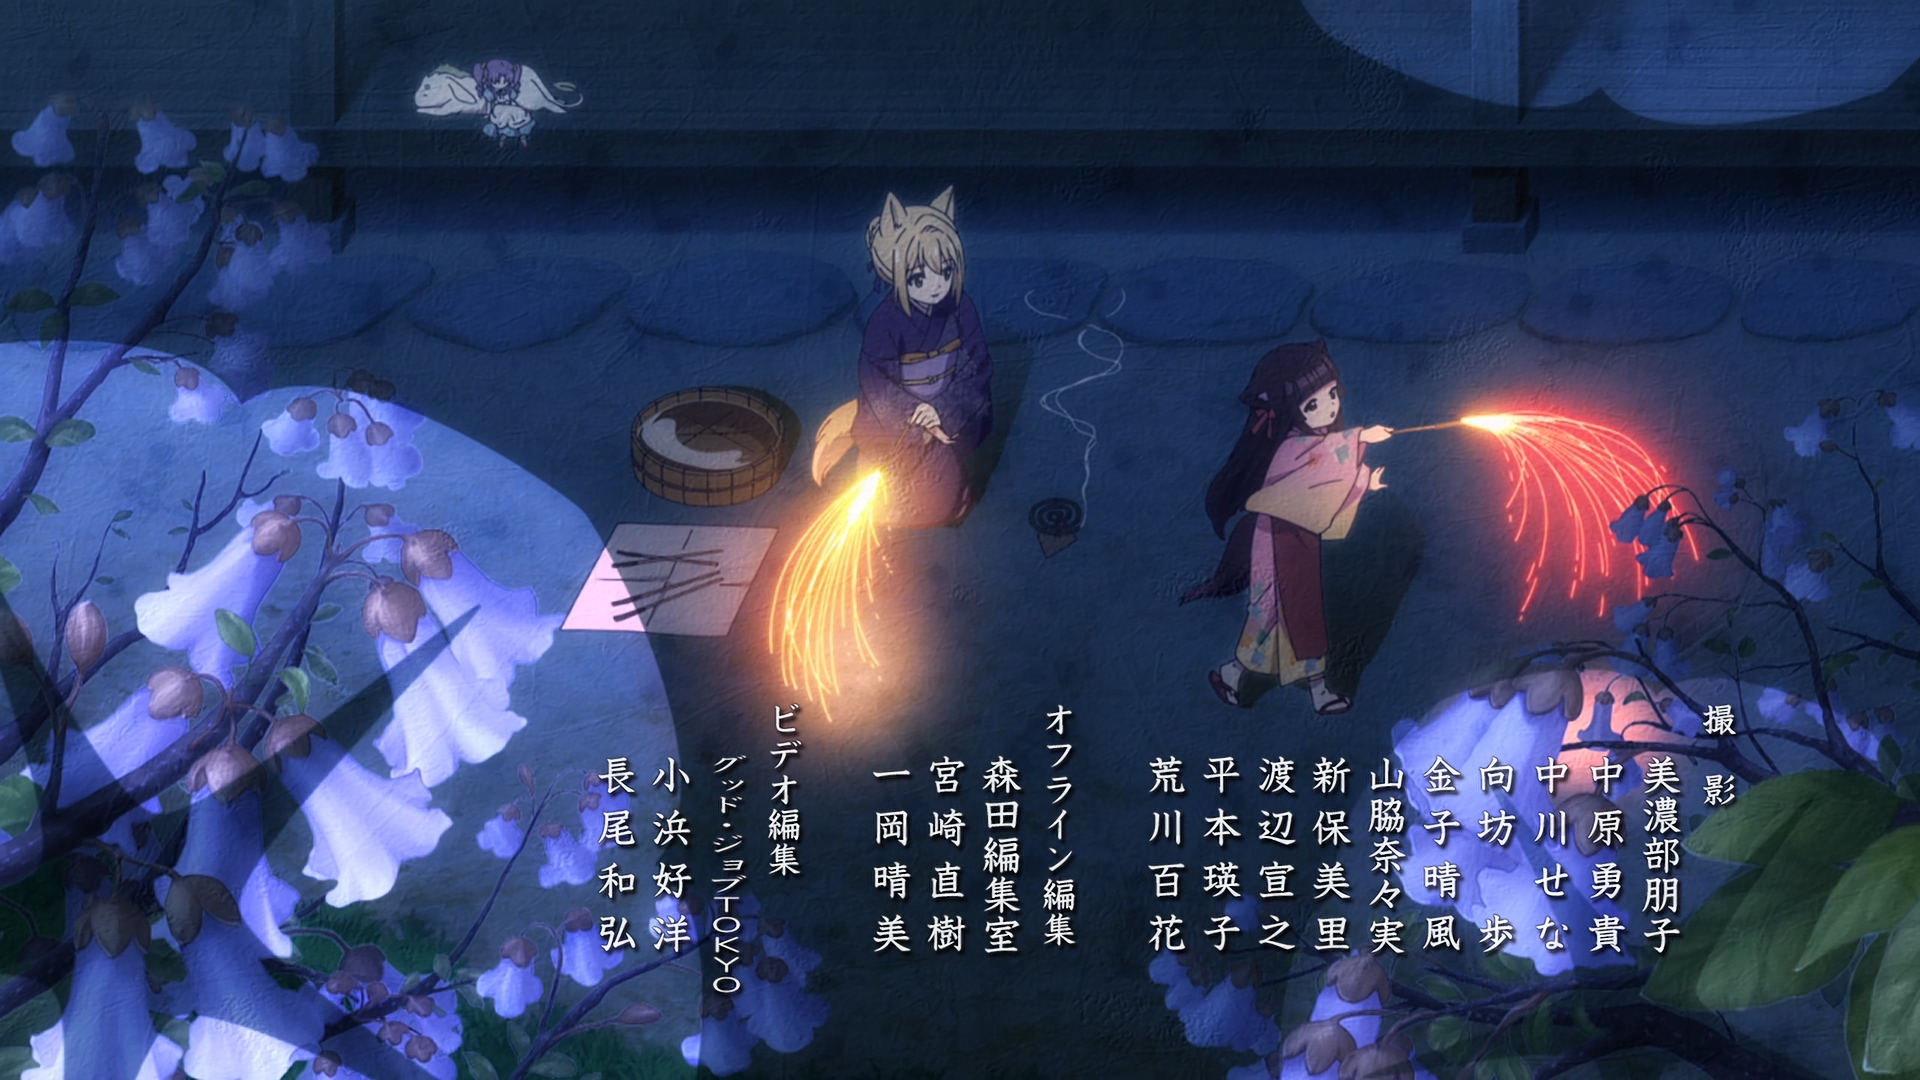桐: (811, 185, 976, 527)
樱: (1182, 342, 1393, 715)
